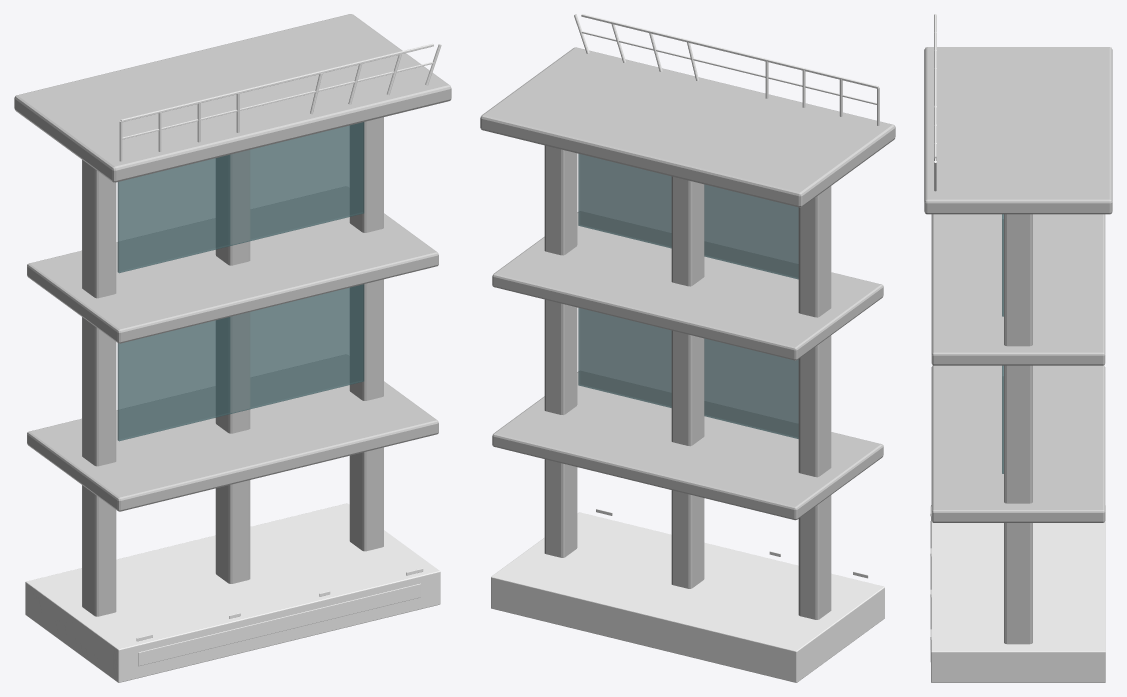
Rendered from SM_FC01_Building_TransitFacade_A.glb.
3 renders of one model, left to right at view 1: azimuth 30°, elevation 25°; view 2: azimuth 150°, elevation 25°; view 3: azimuth 270°, elevation 25°, orthographic. The views are drawn at different scales.
Visible parts, largest first — view 1: SM_FC01_Building_TransitFacade_A_Roof, SM_FC01_Building_TransitFacade_A_WetBand, SM_FC01_Building_TransitFacade_A_Slab_1, SM_FC01_Building_TransitFacade_A_Slab_2, SM_FC01_Building_TransitFacade_A_Glass_1, SM_FC01_Building_TransitFacade_A_Glass_2, SM_FC01_Building_TransitFacade_A_Pier_1_-3.0, SM_FC01_Building_TransitFacade_A_Pier_2_-3.0, SM_FC01_Building_TransitFacade_A_AlgaeBand, SM_FC01_Building_TransitFacade_A_Pier_0_-3.0, SM_FC01_Building_TransitFacade_A_Pier_1_0, SM_FC01_Building_TransitFacade_A_Pier_1_3.0 (+6 smaller); view 2: SM_FC01_Building_TransitFacade_A_Roof, SM_FC01_Building_TransitFacade_A_WetBand, SM_FC01_Building_TransitFacade_A_Slab_2, SM_FC01_Building_TransitFacade_A_Slab_1, SM_FC01_Building_TransitFacade_A_Glass_1, SM_FC01_Building_TransitFacade_A_Glass_2, SM_FC01_Building_TransitFacade_A_Pier_1_-3.0, SM_FC01_Building_TransitFacade_A_Pier_2_-3.0, SM_FC01_Building_TransitFacade_A_Pier_0_-3.0, SM_FC01_Building_TransitFacade_A_Pier_1_0, SM_FC01_Building_TransitFacade_A_Pier_1_3.0, SM_FC01_Building_TransitFacade_A_Pier_2_0 (+5 smaller); view 3: SM_FC01_Building_TransitFacade_A_Roof, SM_FC01_Building_TransitFacade_A_WetBand, SM_FC01_Building_TransitFacade_A_Slab_1, SM_FC01_Building_TransitFacade_A_Slab_2, SM_FC01_Building_TransitFacade_A_Pier_1_3.0, SM_FC01_Building_TransitFacade_A_Pier_2_3.0, SM_FC01_Building_TransitFacade_A_Pier_0_3.0, SM_FC01_Building_TransitFacade_A_RoofRail_RailTop.
Part boxes in pixels (x1,y1,x2,y2): SM_FC01_Building_TransitFacade_A_Roof: [14, 14, 451, 182]; SM_FC01_Building_TransitFacade_A_WetBand: [25, 503, 440, 682]; SM_FC01_Building_TransitFacade_A_Slab_1: [27, 354, 438, 511]; SM_FC01_Building_TransitFacade_A_Slab_2: [27, 186, 438, 343]; SM_FC01_Building_TransitFacade_A_Glass_1: [117, 284, 364, 441]; SM_FC01_Building_TransitFacade_A_Glass_2: [117, 122, 364, 273]; SM_FC01_Building_TransitFacade_A_Pier_1_-3.0: [82, 317, 116, 466]; SM_FC01_Building_TransitFacade_A_Pier_2_-3.0: [82, 160, 116, 298]; SM_FC01_Building_TransitFacade_A_AlgaeBand: [138, 583, 420, 666]; SM_FC01_Building_TransitFacade_A_Pier_0_-3.0: [82, 485, 116, 616]; SM_FC01_Building_TransitFacade_A_Pier_1_0: [215, 312, 250, 433]; SM_FC01_Building_TransitFacade_A_Pier_1_3.0: [349, 279, 383, 400]; SM_FC01_Building_TransitFacade_A_Roof: [480, 47, 895, 207]; SM_FC01_Building_TransitFacade_A_WetBand: [491, 512, 884, 682]; SM_FC01_Building_TransitFacade_A_Slab_2: [492, 211, 883, 360]; SM_FC01_Building_TransitFacade_A_Slab_1: [492, 371, 883, 520]; SM_FC01_Building_TransitFacade_A_Glass_1: [578, 308, 798, 438]; SM_FC01_Building_TransitFacade_A_Glass_2: [578, 153, 798, 279]; SM_FC01_Building_TransitFacade_A_Pier_1_-3.0: [798, 335, 831, 477]; SM_FC01_Building_TransitFacade_A_Pier_2_-3.0: [798, 186, 831, 317]; SM_FC01_Building_TransitFacade_A_Pier_0_-3.0: [798, 495, 831, 619]; SM_FC01_Building_TransitFacade_A_Pier_1_0: [671, 330, 704, 446]; SM_FC01_Building_TransitFacade_A_Pier_1_3.0: [544, 299, 577, 414]; SM_FC01_Building_TransitFacade_A_Pier_2_0: [671, 176, 704, 286]; SM_FC01_Building_TransitFacade_A_Roof: [924, 47, 1112, 214]; SM_FC01_Building_TransitFacade_A_WetBand: [931, 505, 1105, 682]; SM_FC01_Building_TransitFacade_A_Slab_1: [931, 365, 1105, 522]; SM_FC01_Building_TransitFacade_A_Slab_2: [931, 214, 1105, 365]; SM_FC01_Building_TransitFacade_A_Pier_1_3.0: [1004, 365, 1032, 503]; SM_FC01_Building_TransitFacade_A_Pier_2_3.0: [1004, 214, 1032, 346]; SM_FC01_Building_TransitFacade_A_Pier_0_3.0: [1004, 523, 1032, 644]; SM_FC01_Building_TransitFacade_A_RoofRail_RailTop: [934, 14, 936, 158].
Size of the model in its own units: 7.6 by 12 by 3.9.
